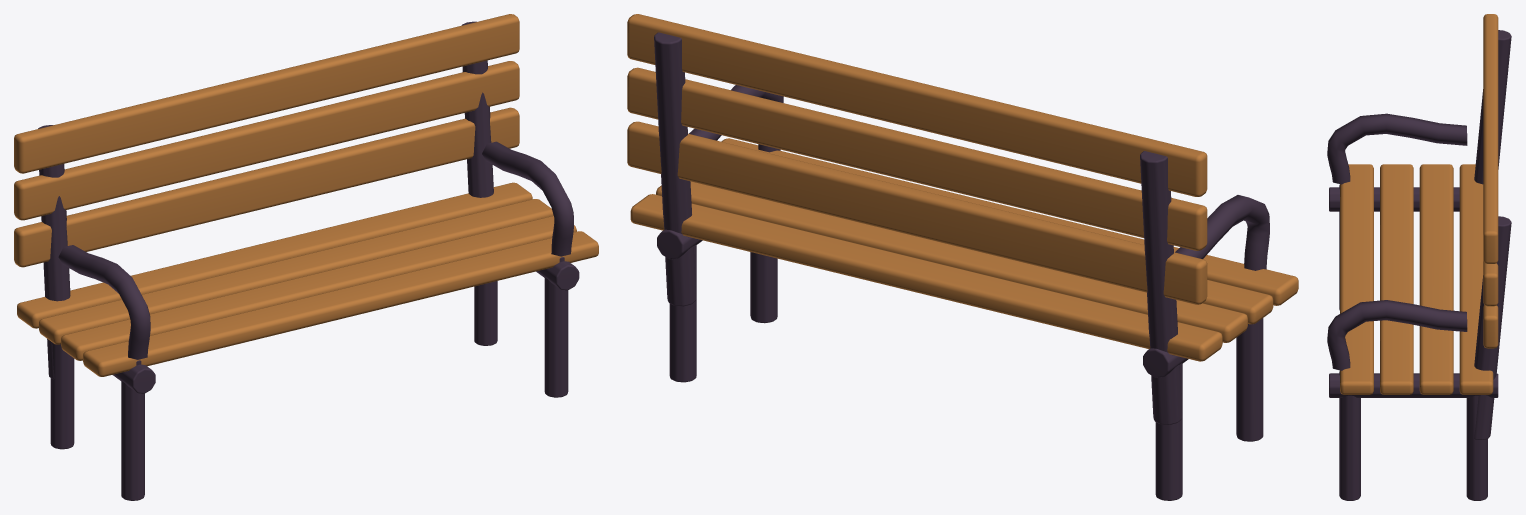
File: Bench.glb
3 renders of one model, left to right at view 1: azimuth 30°, elevation 25°; view 2: azimuth 150°, elevation 25°; view 3: azimuth 270°, elevation 25°, orthographic. The views are drawn at different scales.
Parts seen in each view (by area): view 1: Bench__BenchWood, Bench__BenchFrame; view 2: Bench__BenchWood, Bench__BenchFrame; view 3: Bench__BenchWood, Bench__BenchFrame.
Boxes of the visible parts, <box> form: Bench__BenchWood: <box>14,14,598,376</box>; Bench__BenchFrame: <box>38,21,579,500</box>; Bench__BenchWood: <box>627,14,1298,361</box>; Bench__BenchFrame: <box>654,32,1269,500</box>; Bench__BenchWood: <box>1340,14,1498,394</box>; Bench__BenchFrame: <box>1327,30,1511,500</box>.
Size of the model in its own units: 6.15 by 3.66 by 2.17.
